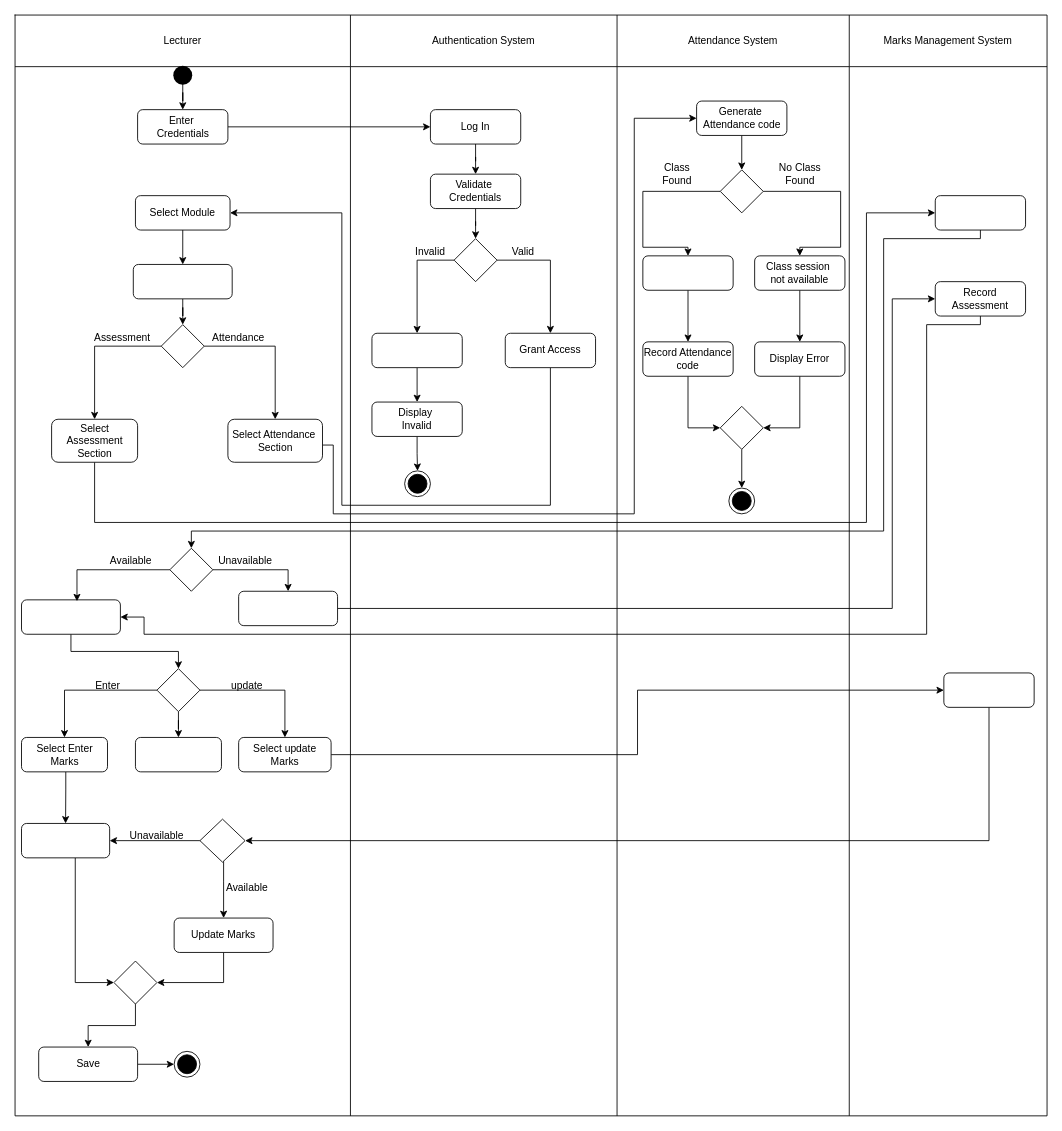
The diagram is 1062 pixels wide and 1131 high, and some of its shapes have lost their labels. The shapes that lost their labels are listed below. From the top down, each one's centre as x and y in pixels, then its label:
(x=980, y=212): Check Assessment Availabilty
(x=182, y=281): Select Section
(x=687, y=272): Class session available
(x=416, y=350): Deny Acess
(x=70, y=616): Select Assessment
(x=288, y=608): Insert Assessment
(x=988, y=689): Check Availability of marks
(x=178, y=754): Select Update details
(x=65, y=840): Enter Marks
